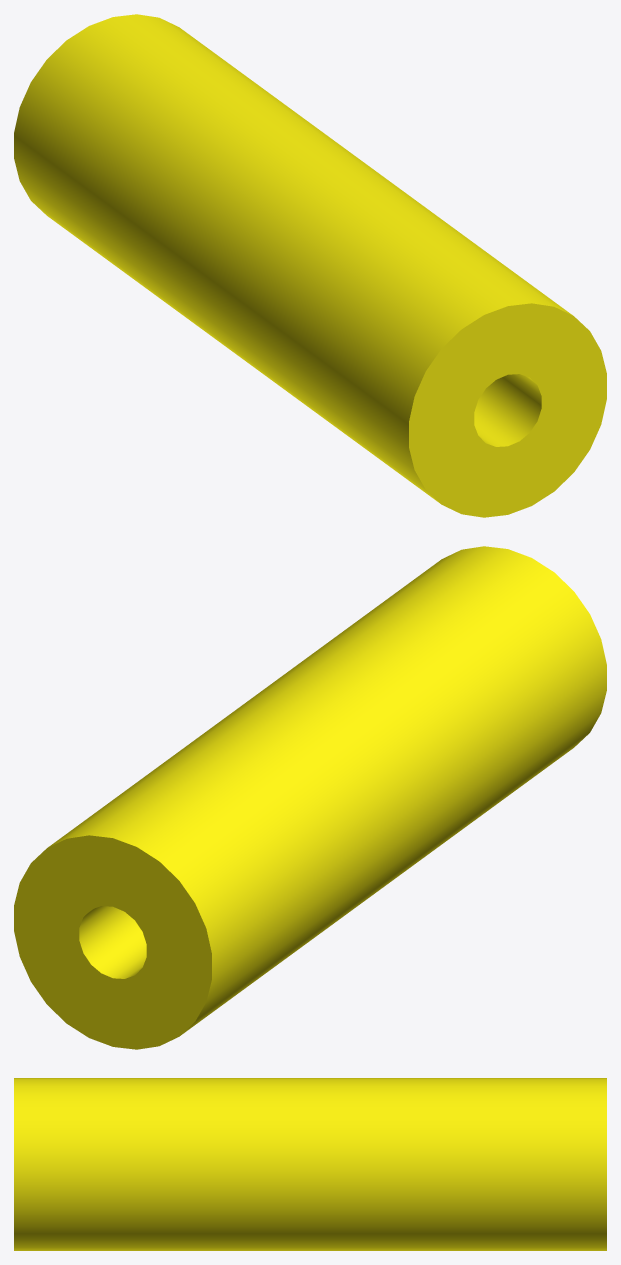
Rendered from 发射辊.FBX.
3 views of the same model, one above another, from view 1: azimuth 30°, elevation 25°; view 2: azimuth 150°, elevation 25°; view 3: azimuth 270°, elevation 25° (orthographic). The views are drawn at different scales.
Parts seen in each view (by area): view 1: 凸台-拉伸1; view 2: 凸台-拉伸1; view 3: 凸台-拉伸1.
Boxes of the visible parts, bbox=[...] form: 凸台-拉伸1: bbox=[14, 14, 606, 517]; 凸台-拉伸1: bbox=[14, 546, 606, 1049]; 凸台-拉伸1: bbox=[14, 1078, 606, 1250].
Size of the model in its own units: 3.47 by 3.5 by 12.
